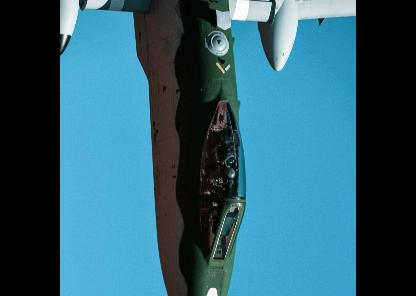A10: (61, 0, 356, 295)
